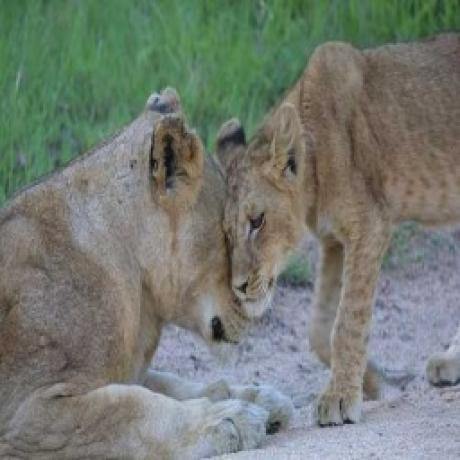Lion: (0, 84, 298, 459), (213, 34, 460, 430)
